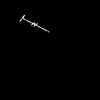treble_crochet: (20, 15, 46, 30)
